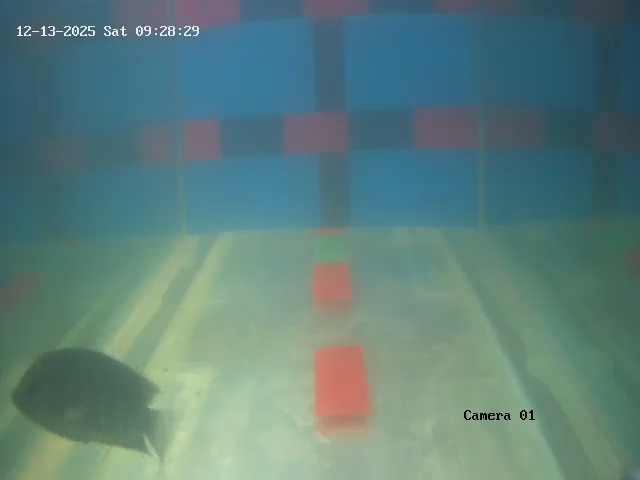fish: (16, 340, 156, 451)
